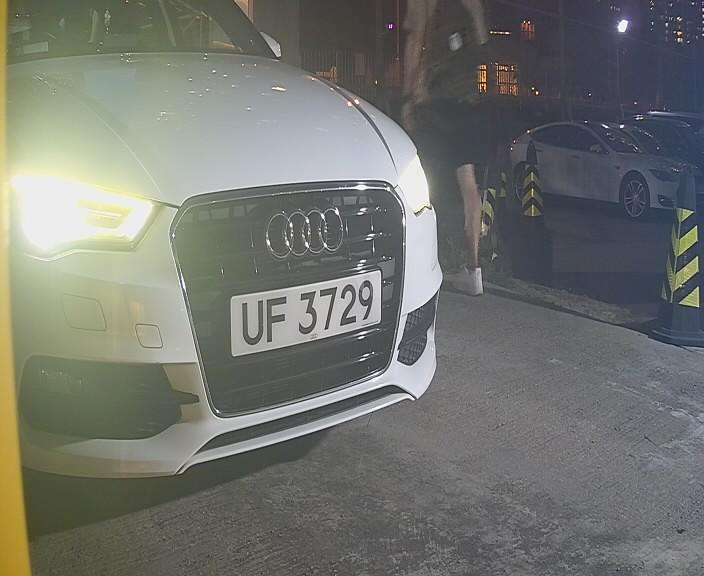Car: (7, 24, 497, 484)
License Plate: (227, 265, 387, 358)
